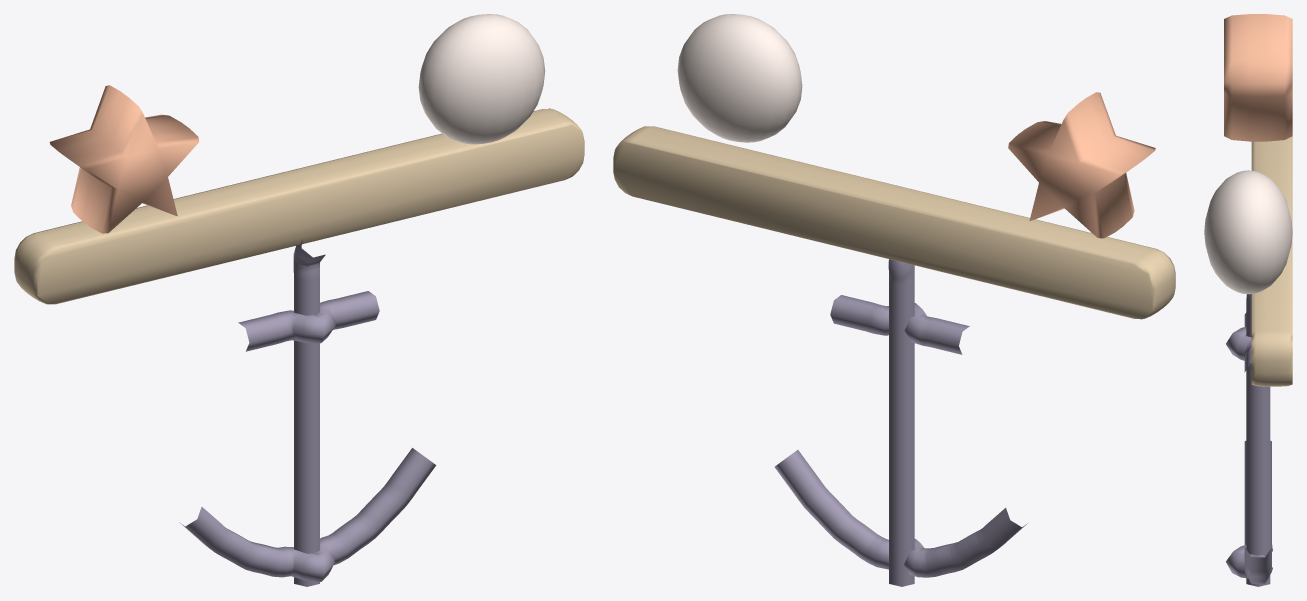
The model's file is decor_5_classic.glb.
The picture shows the model from 3 angles, left to right: view 1: azimuth 30°, elevation 25°; view 2: azimuth 150°, elevation 25°; view 3: azimuth 270°, elevation 25°; orthographic projection. The views are drawn at different scales.
Parts seen in each view (by area): view 1: decor_5_classic; view 2: decor_5_classic; view 3: decor_5_classic.
Part boxes in pixels (left/top/right/bottom): decor_5_classic: left=14, top=14, right=584, bottom=586; decor_5_classic: left=613, top=14, right=1175, bottom=586; decor_5_classic: left=1204, top=14, right=1292, bottom=586.
Bounding box in the file's own units: 8.46 × 7.78 × 1.29.
